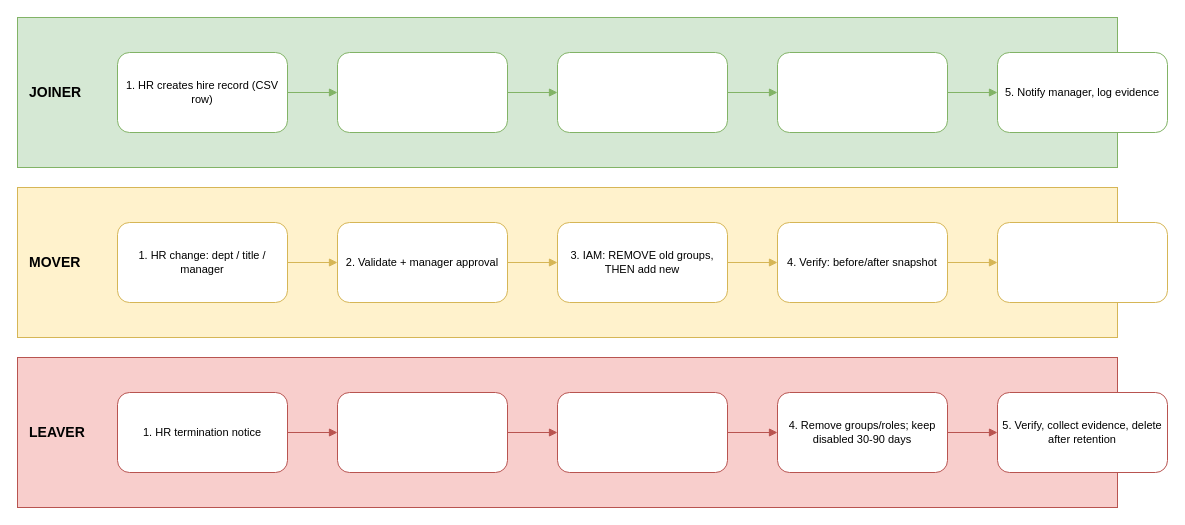
The diagram is 1185 pixels wide and 525 high, and some of its shapes have lost their labels. The shapes that lost their labels are listed below. From the top down, each one's centre as x and y in pixels, then its label:
the point at 422,92: 2. Validate data + trigger (ticket)
the point at 642,92: 3. IAM: create account, add to dept group
the point at 862,92: 4. Verify: first login, forced password change
the point at 1082,262: 5. Update Mover Log
the point at 422,432: 2. Classify: standard vs URGENT
the point at 642,432: 3. IAM: reset pw, revoke sessions, block sign-in
